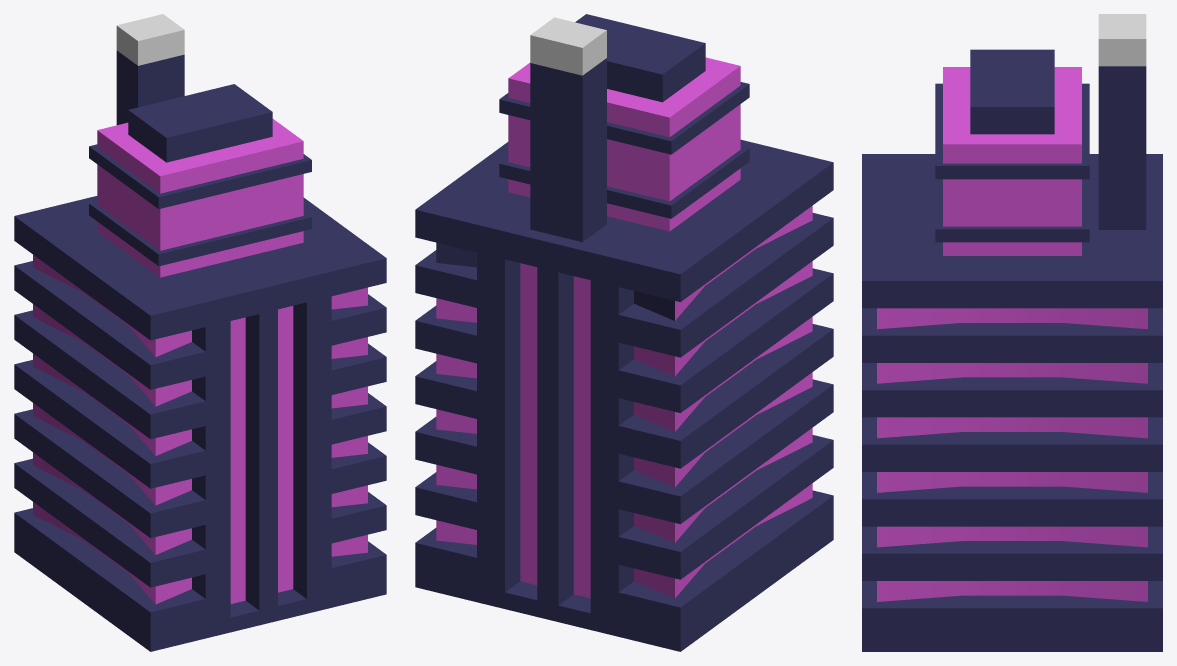
File: Building_9.fbx
The picture shows the model from 3 angles, left to right: view 1: azimuth 30°, elevation 25°; view 2: azimuth 150°, elevation 25°; view 3: azimuth 270°, elevation 25°; orthographic projection. The views are drawn at different scales.
Visible parts, largest first — view 1: pCube5; view 2: pCube5; view 3: pCube5.
Part boxes in pixels (box(x1,y1,x2,y2)): pCube5: box(14, 14, 386, 651); pCube5: box(415, 14, 833, 651); pCube5: box(862, 14, 1162, 651).
Bounding box in the file's own units: 5 × 10.3 × 5.
